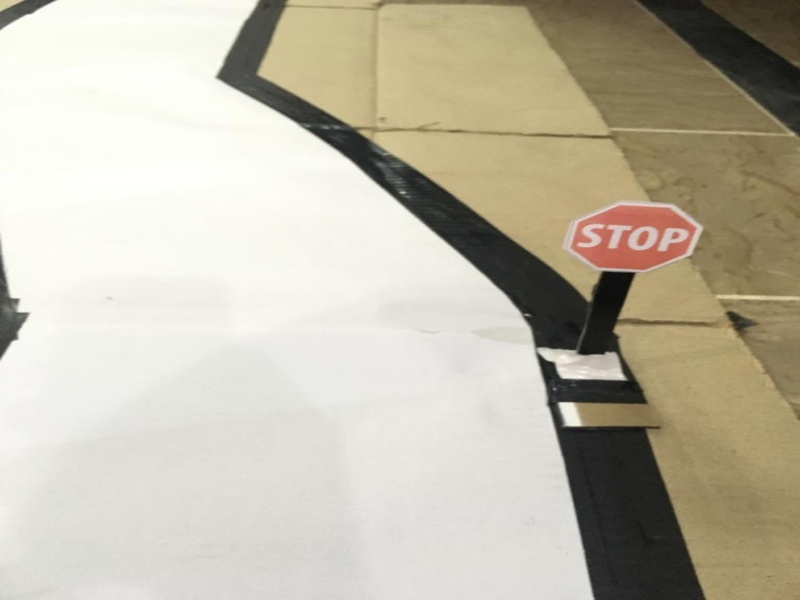Stop: (566, 194, 703, 273)
